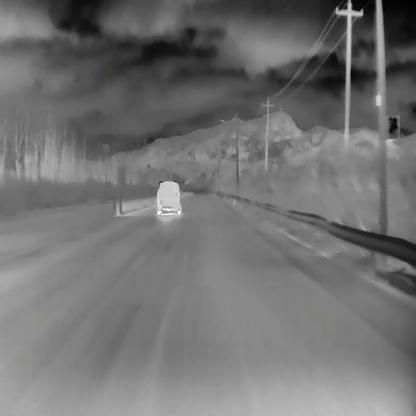car: (156, 180, 181, 214)
